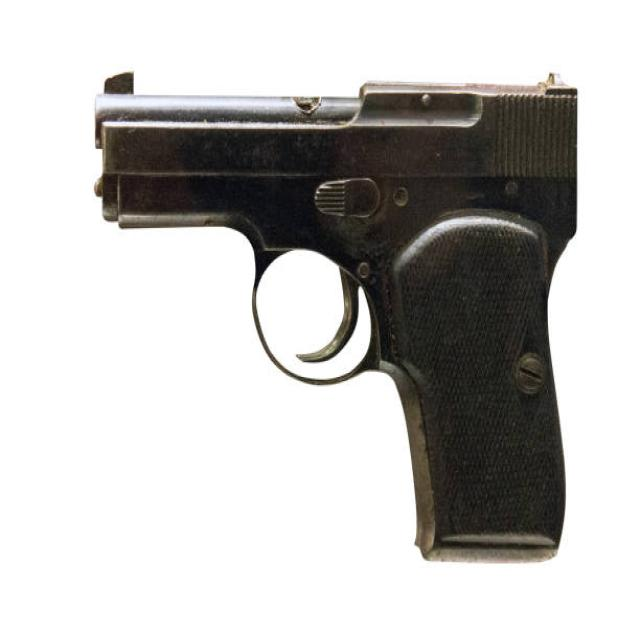pistol: (85, 65, 587, 570)
